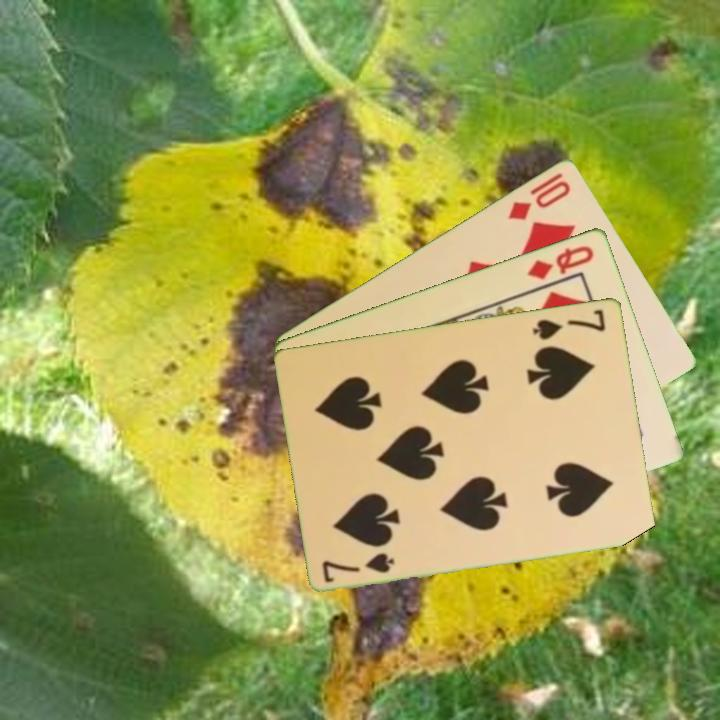10d: (504, 176, 574, 223)
7s: (529, 305, 609, 342), (319, 548, 398, 585)
Qd: (524, 241, 597, 282)
